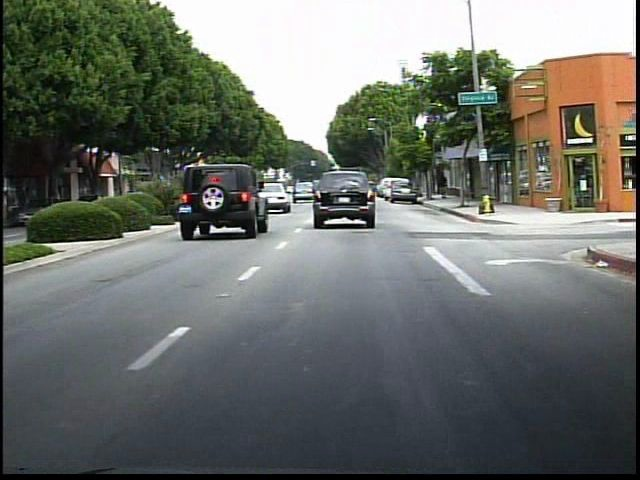person: (434, 167, 454, 203)
